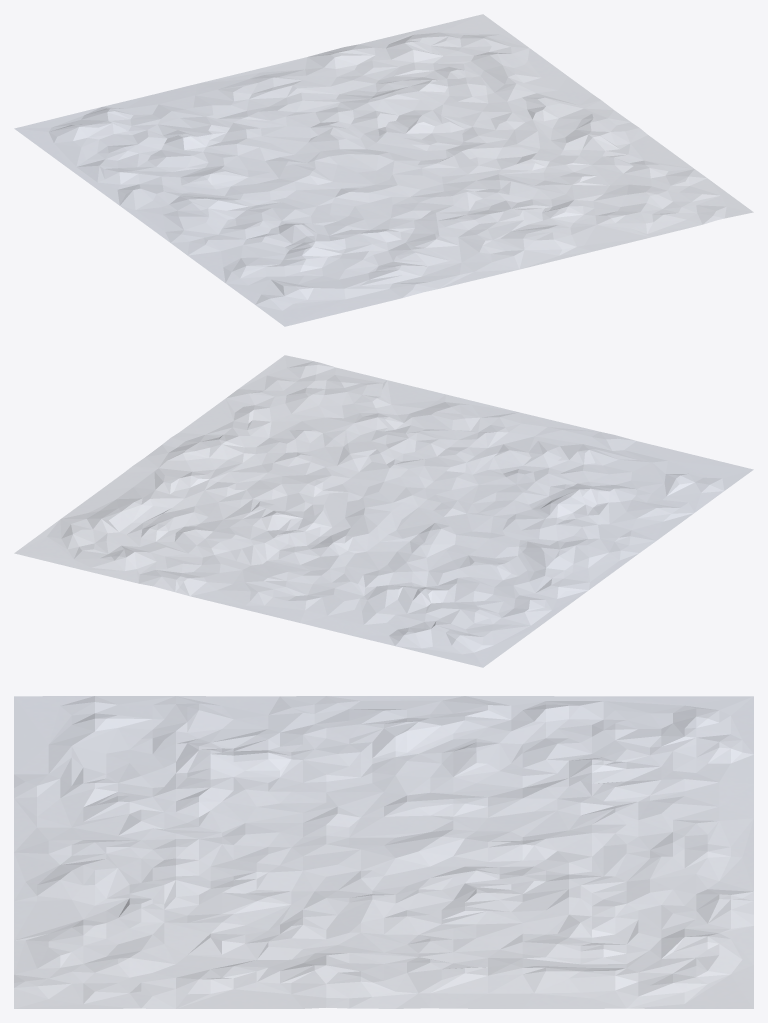
File: Terrain_2.fbx
The picture shows the model from 3 angles, top to bottom: view 1: azimuth 30°, elevation 25°; view 2: azimuth 150°, elevation 25°; view 3: azimuth 270°, elevation 25°; orthographic projection. The views are drawn at different scales.
Parts seen in each view (by area): view 1: Terrain_Mesh; view 2: Terrain_Mesh; view 3: Terrain_Mesh.
Boxes of the visible parts, x1,y1,x2,y2 form: Terrain_Mesh: [14, 14, 753, 326]; Terrain_Mesh: [14, 355, 753, 667]; Terrain_Mesh: [14, 696, 753, 1008].
Bounding box in the file's own units: 200 × 3.57 × 200.
Materials: 1 (1 with a texture image).
